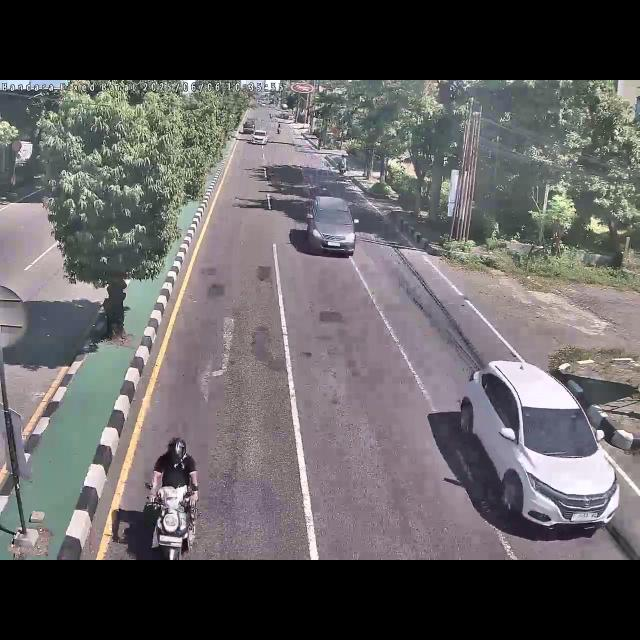Mobil: (460, 358, 622, 536), (303, 196, 361, 254)
Motor: (146, 434, 200, 560)
